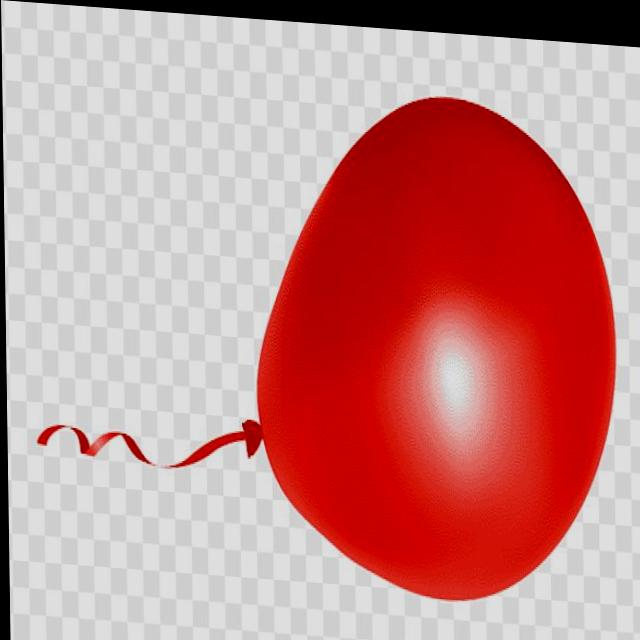balloon: (222, 55, 626, 618)
